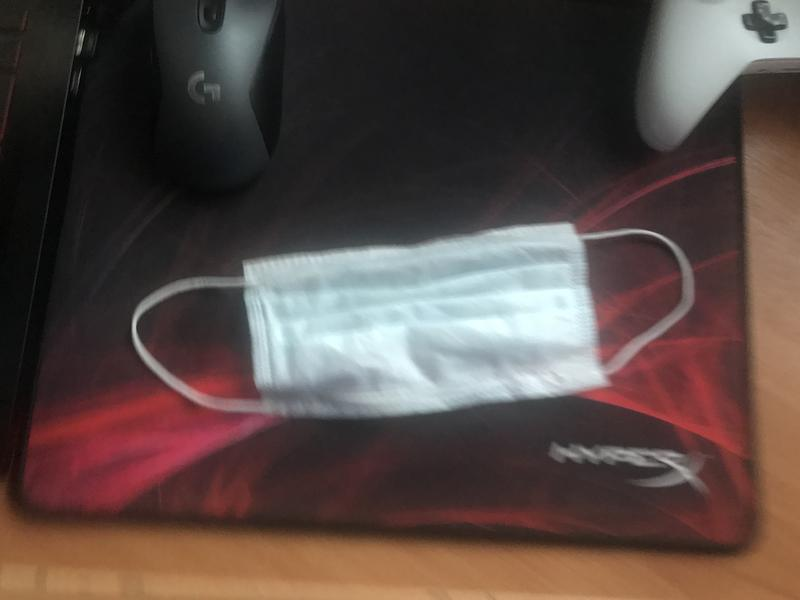medical_mask: (129, 224, 694, 418)
